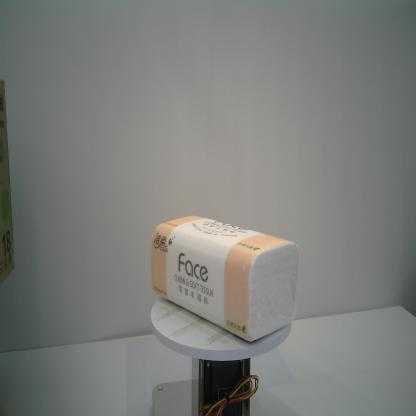Tissue: (150, 216, 300, 344)
